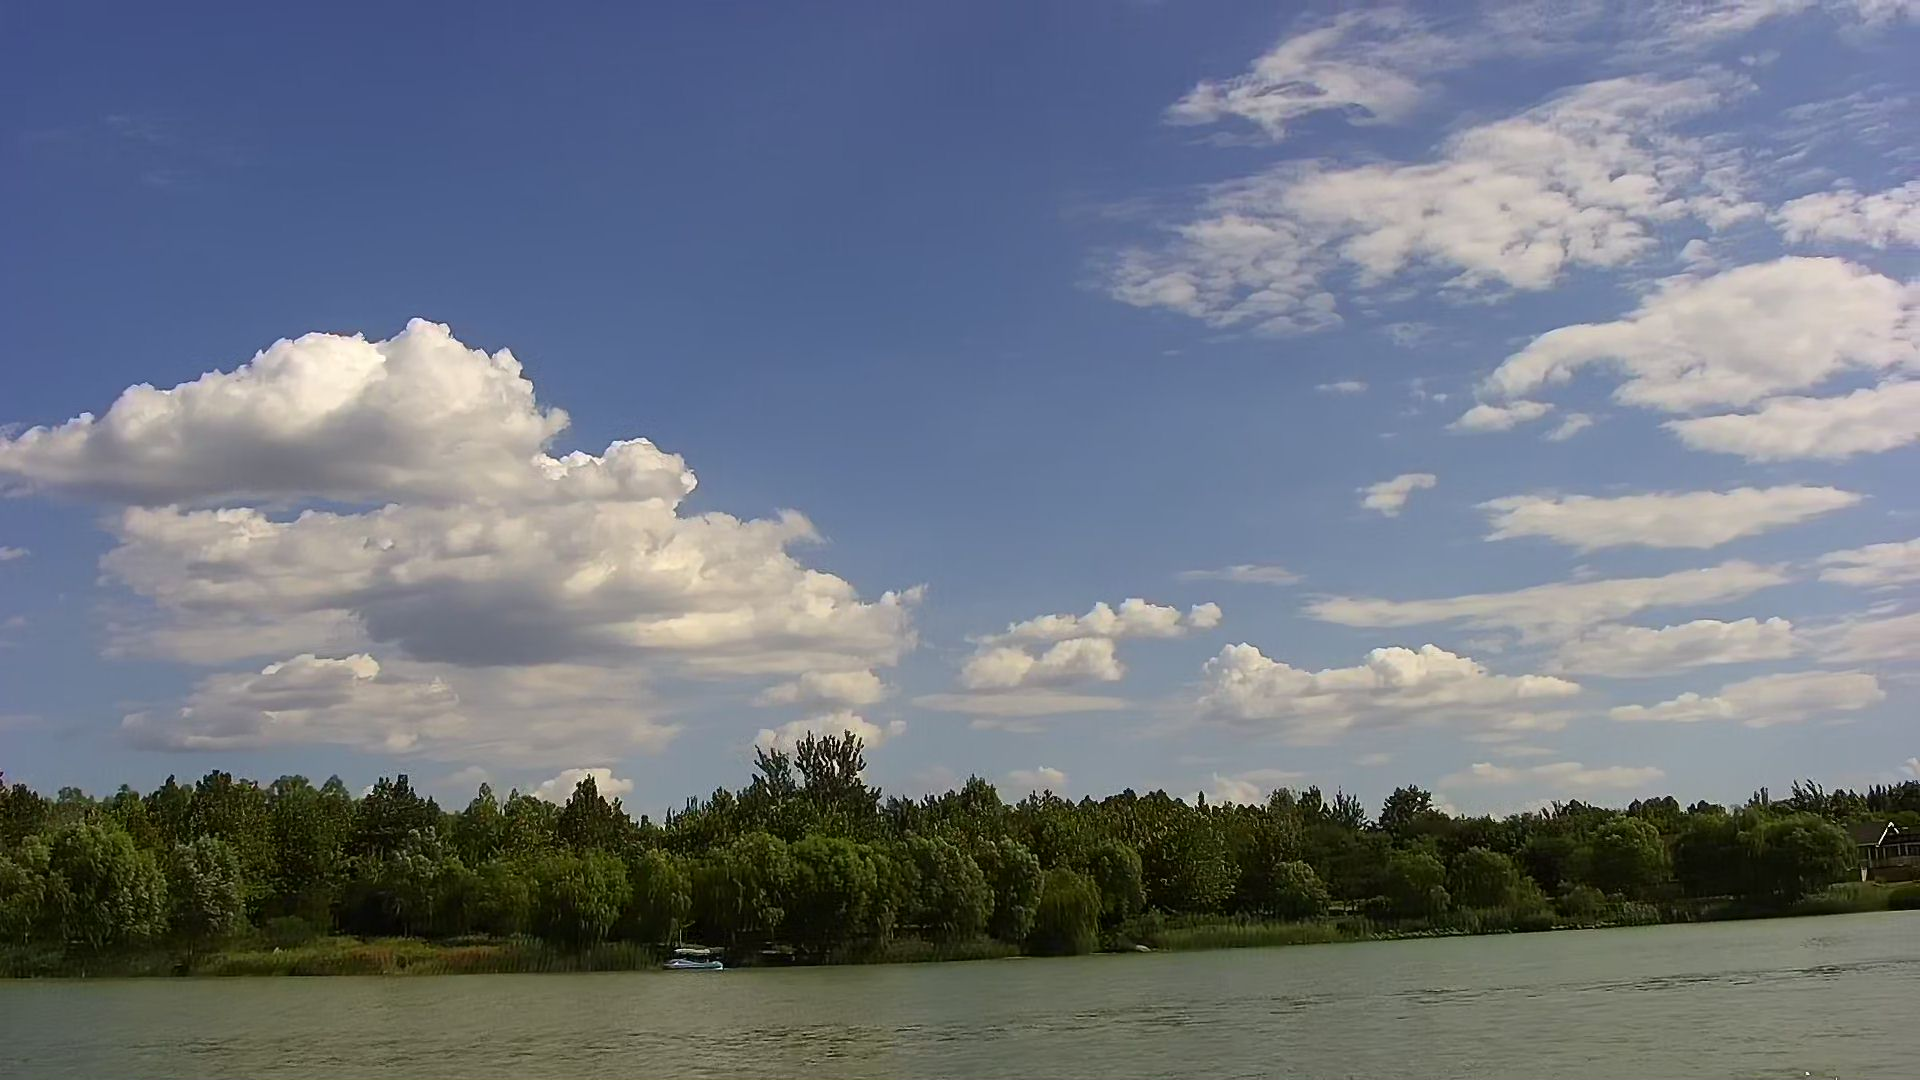boat: (658, 942, 729, 975)
